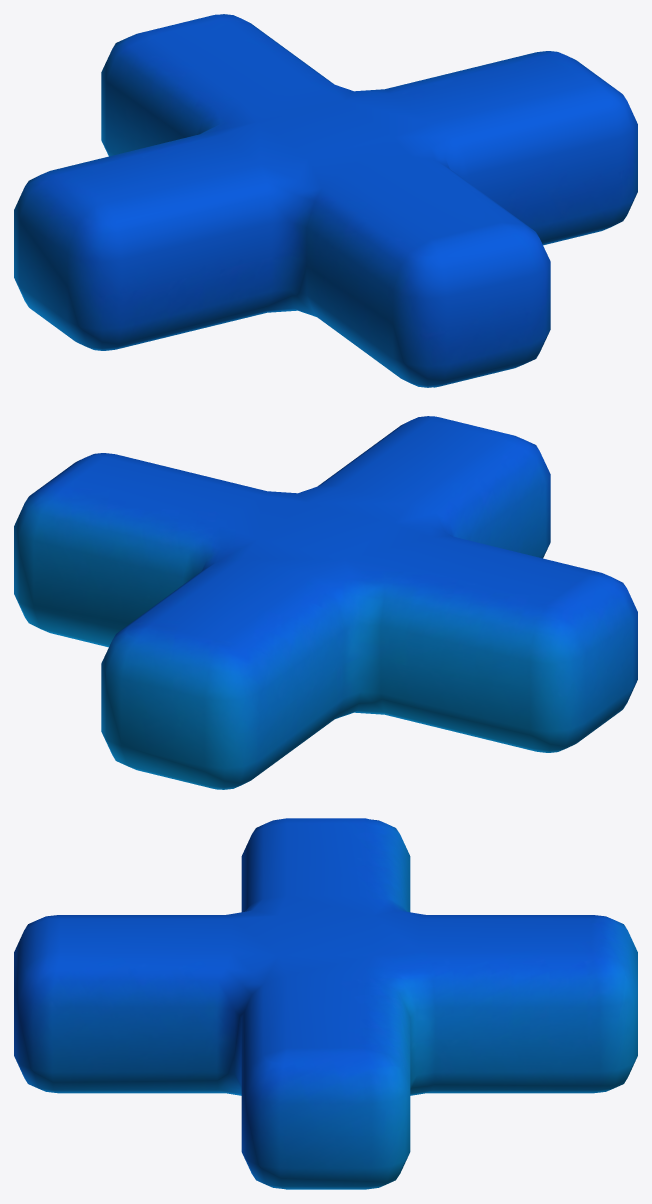
Rendered from plus.glb.
3 views of the same model, one above another, from view 1: azimuth 30°, elevation 25°; view 2: azimuth 150°, elevation 25°; view 3: azimuth 270°, elevation 25° (orthographic). The views are drawn at different scales.
Bounding box in the file's own units: 1 × 0.2421 × 1.
Materials: 1 (1 with a texture image).
